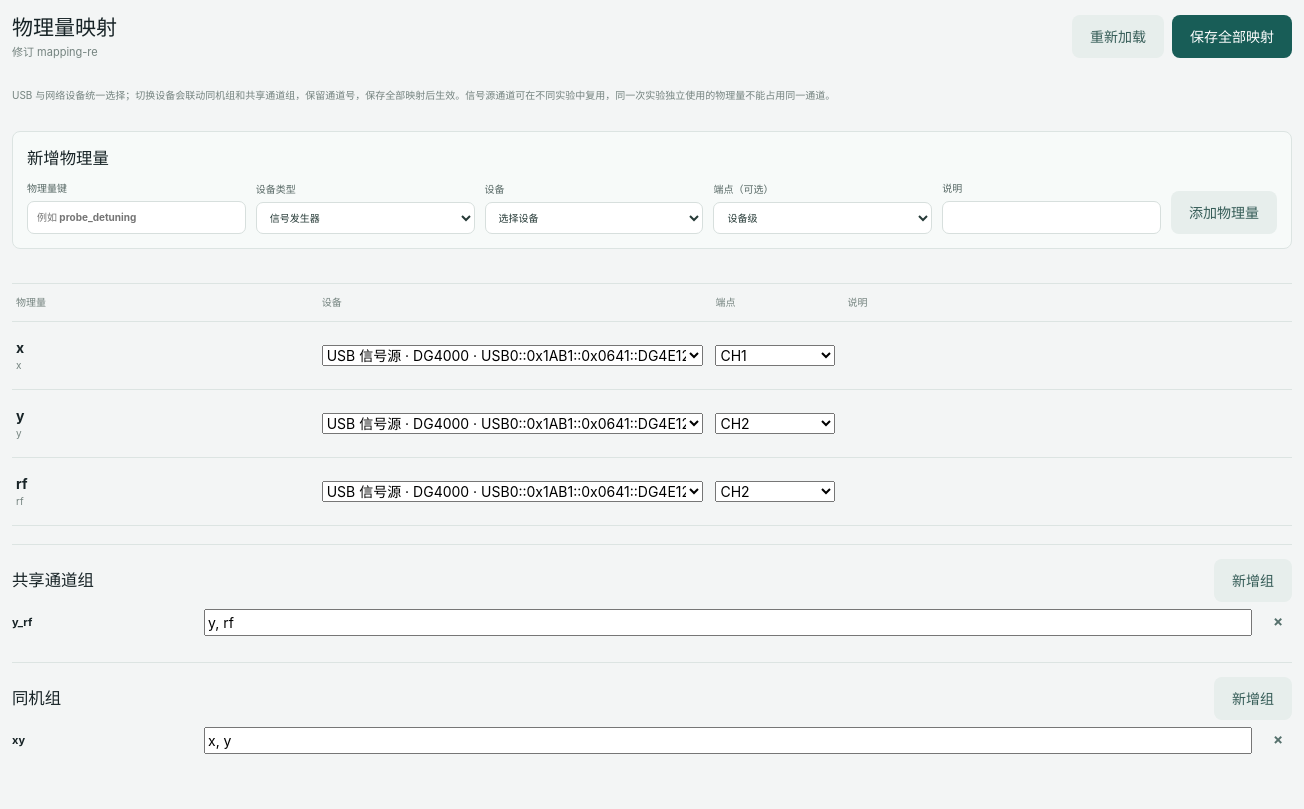
Test: 物理量设备成组切换 › 后端保存冲突保留整组草稿和旧修订号
The image size is (1304, 809).
Select "网络信号源 · DG900 · TCPIP0::192.168.124.31::INSTR · DG9Q321" in the dropdown named "x 设备" at (513, 355), box [322,345,704,366]
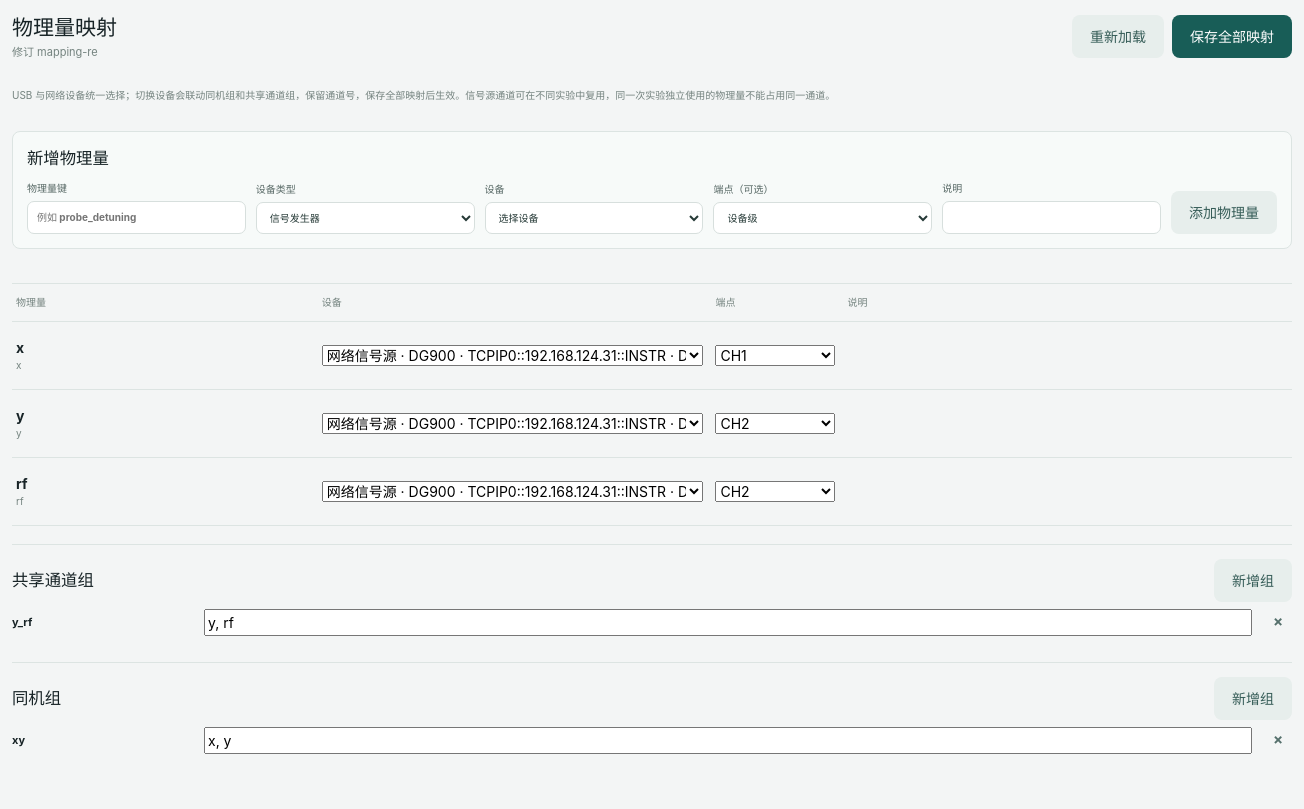
Click the button "保存全部映射".
click(1232, 36)  # box [1172,14,1292,58]
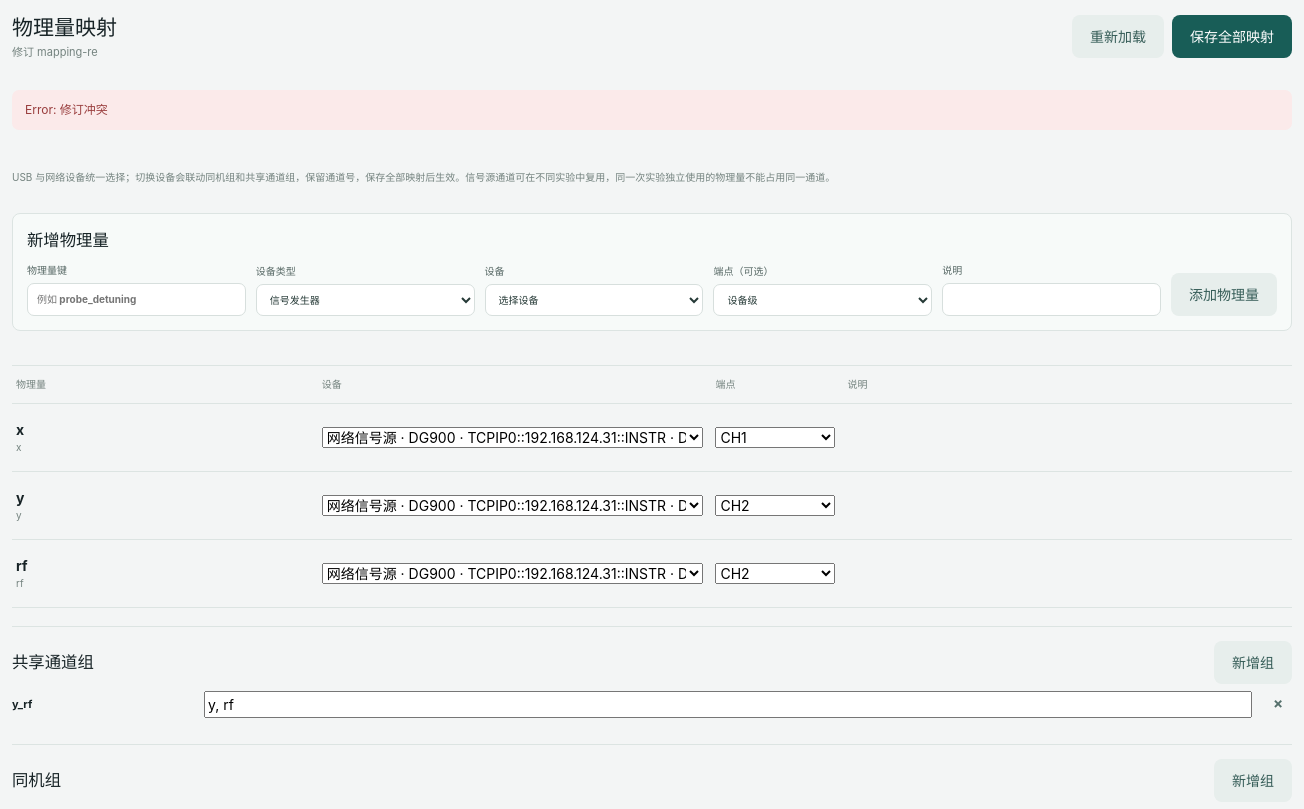
Expected: the text "修订 mapping-re" is shown, [12,44,98,58]
Expected: the text "Error: 修订冲突" is shown, [12,90,1292,130]
